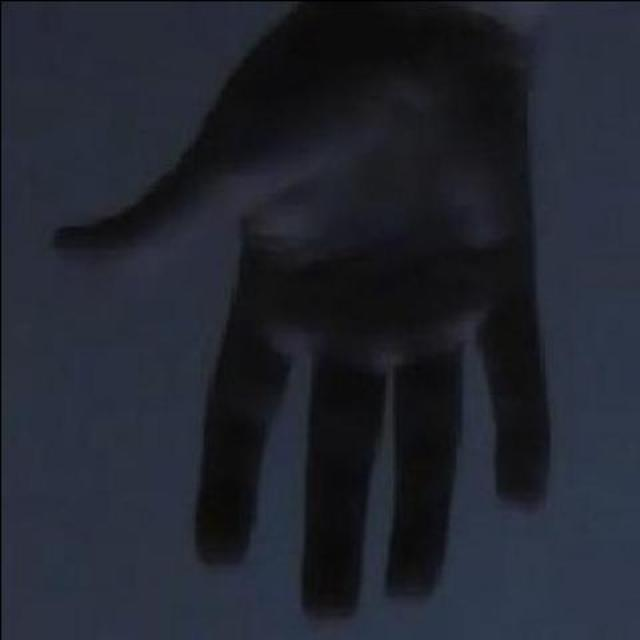Open Hand: (44, 3, 557, 630)
